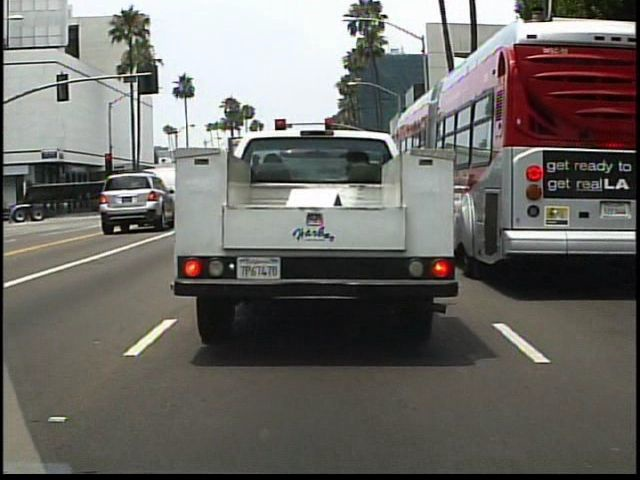person: (24, 194, 44, 227)
